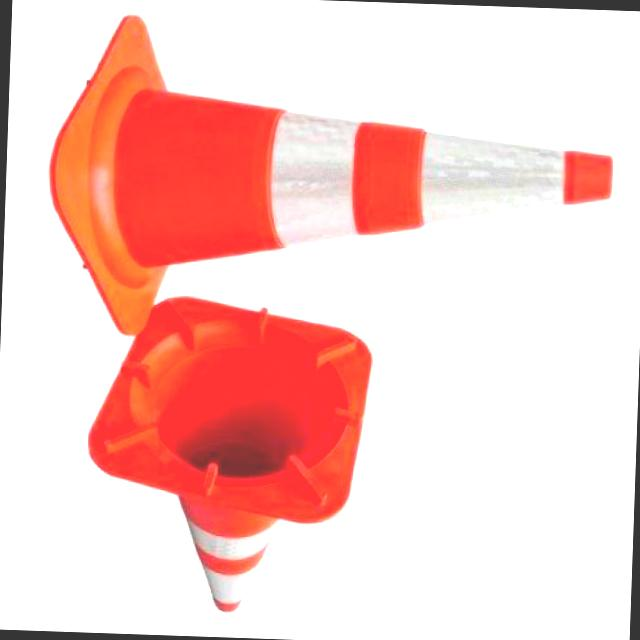cone: (54, 58, 616, 308), (70, 302, 372, 640)
